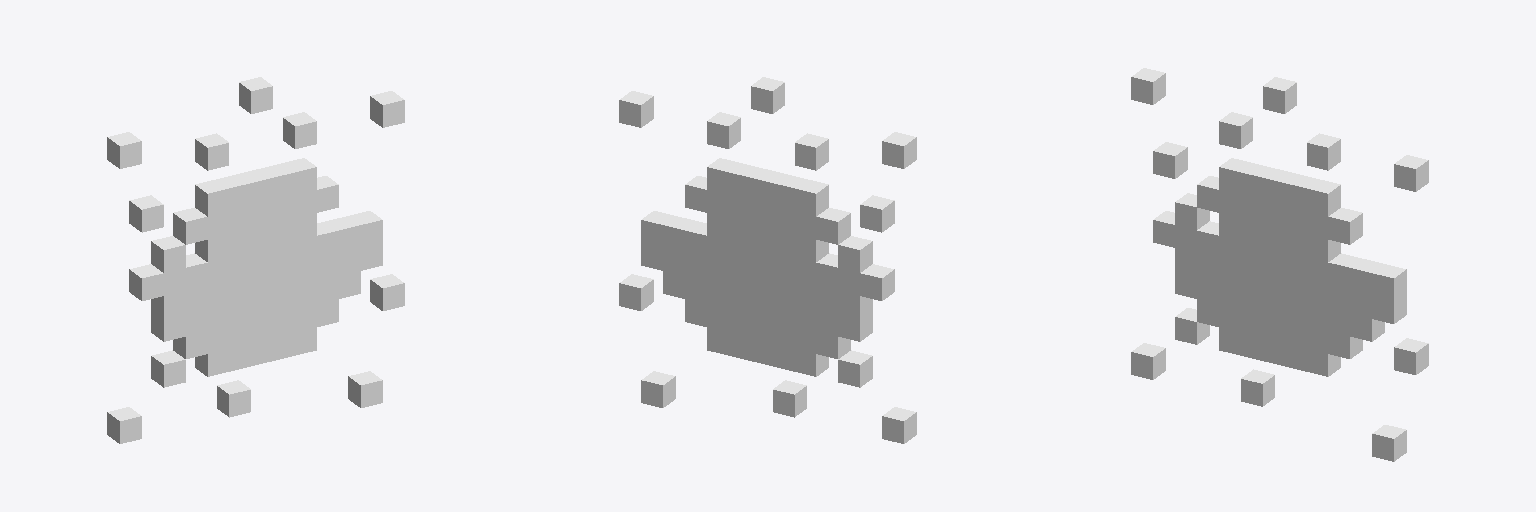
File: Die4.obj
3 views of the same model, side by side, from view 1: azimuth 30°, elevation 25°; view 2: azimuth 150°, elevation 25°; view 3: azimuth 330°, elevation 25° (orthographic).
Visible parts, largest first — view 1: object 1; view 2: object 1; view 3: object 1.
Boxes of the visible parts, x1=… form: object 1: x1=107, y1=77, x2=404, y2=443; object 1: x1=619, y1=77, x2=916, y2=443; object 1: x1=1131, y1=68, x2=1428, y2=461.
Size of the model in its own units: 1.3 by 1.5 by 0.1.